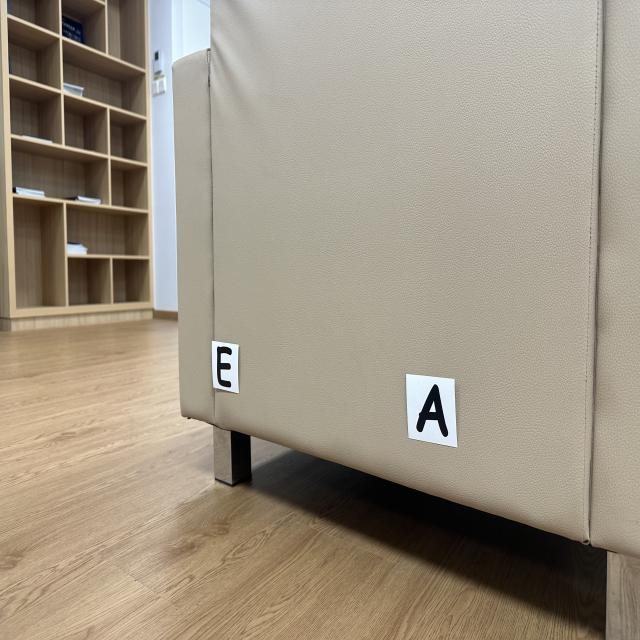A: (416, 385, 449, 437)
E: (216, 345, 232, 388)
